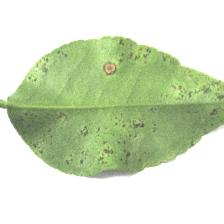canker: (64, 46, 212, 162)
